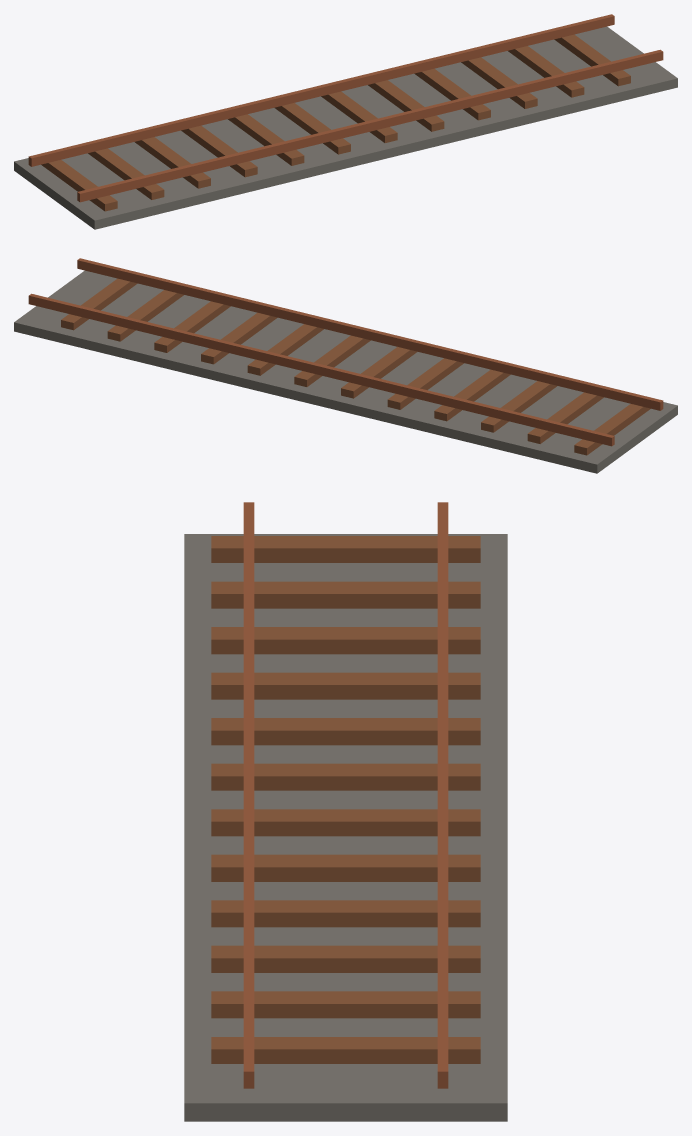
The model's file is rail_track.fbx.
3 views of the same model, one above another, from view 1: azimuth 30°, elevation 25°; view 2: azimuth 150°, elevation 25°; view 3: azimuth 270°, elevation 25° (orthographic). The views are drawn at different scales.
Visible parts, largest first — view 1: rail_track; view 2: rail_track; view 3: rail_track.
Part boxes in pixels (<box>): rail_track: <box>14,14,677,229</box>; rail_track: <box>14,258,677,473</box>; rail_track: <box>184,502,507,1121</box>.
Size of the model in its own units: 10 by 0.41 by 2.4.
Materials: 1 (1 with a texture image).
